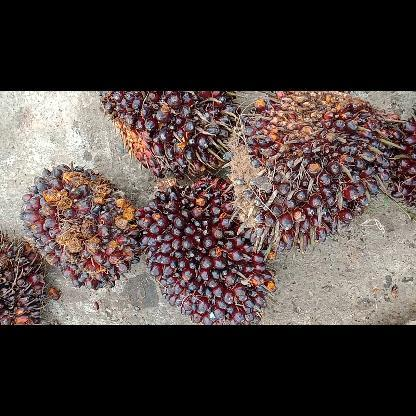Kurang masak: (219, 91, 396, 256), (126, 177, 278, 323), (16, 160, 140, 292), (96, 91, 244, 183)
